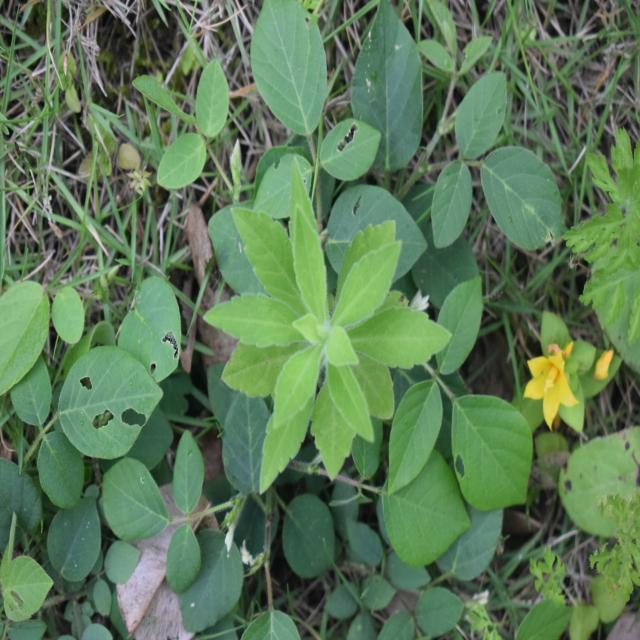horseweed: (214, 193, 408, 460)
